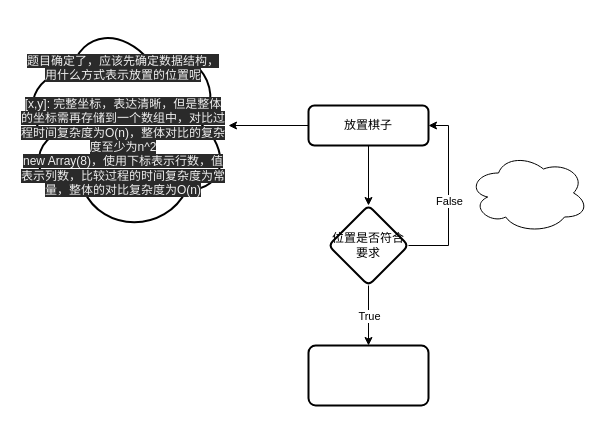
This 606x424 diagram has some shape labels left out. The shapes that lost their labels are listed below. From the top down, each one's centre as x and y in pixels, then its label:
At (528,192): "位置不符合要求之后将进行同行中后一个位置的棋子放置".
At (368,375): "存储棋子位置，并进行下一行的棋子位置放置".
